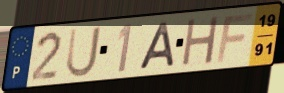1: (117, 22, 134, 75)
2: (30, 30, 64, 83)
A: (136, 20, 177, 72)
F: (215, 11, 256, 65)
H: (180, 14, 222, 69)
U: (64, 24, 103, 79)
